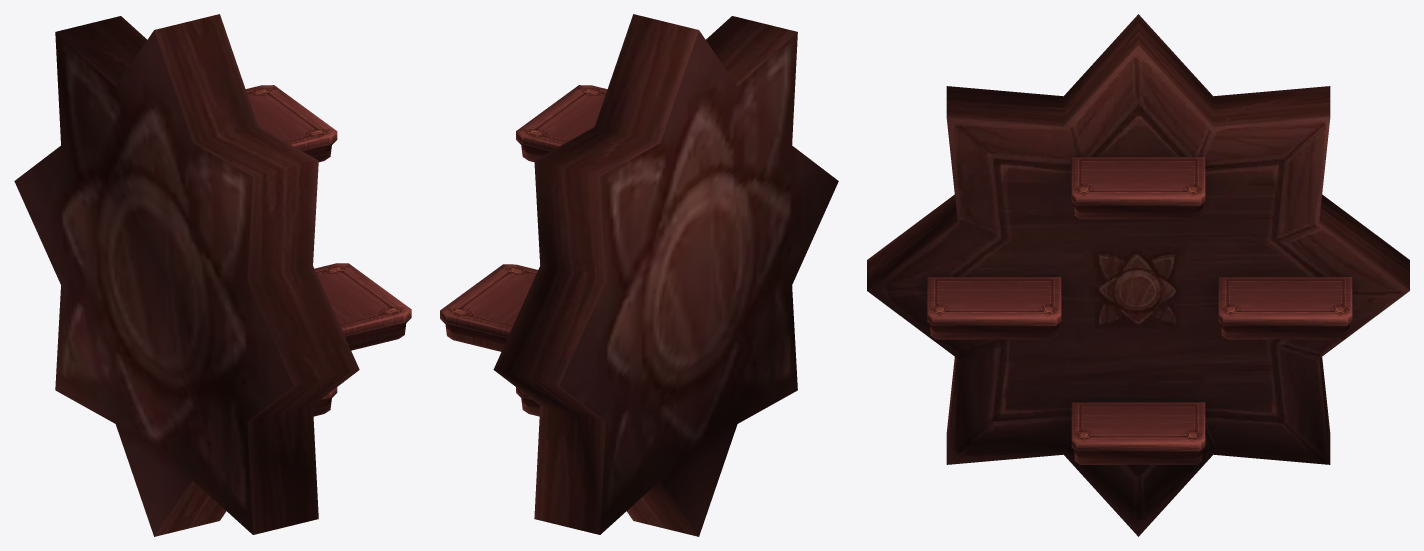
3 views of the same model, side by side, from view 1: azimuth 30°, elevation 25°; view 2: azimuth 150°, elevation 25°; view 3: azimuth 270°, elevation 25° (orthographic). The views are drawn at different scales.
Size of the model in its own units: 1.03 by 3.28 by 3.28.
2 materials, 2 textured.
